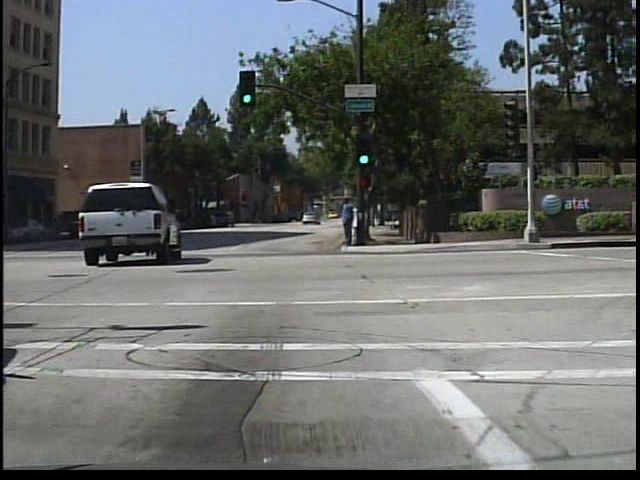person: (337, 193, 357, 249), (345, 195, 363, 245)
